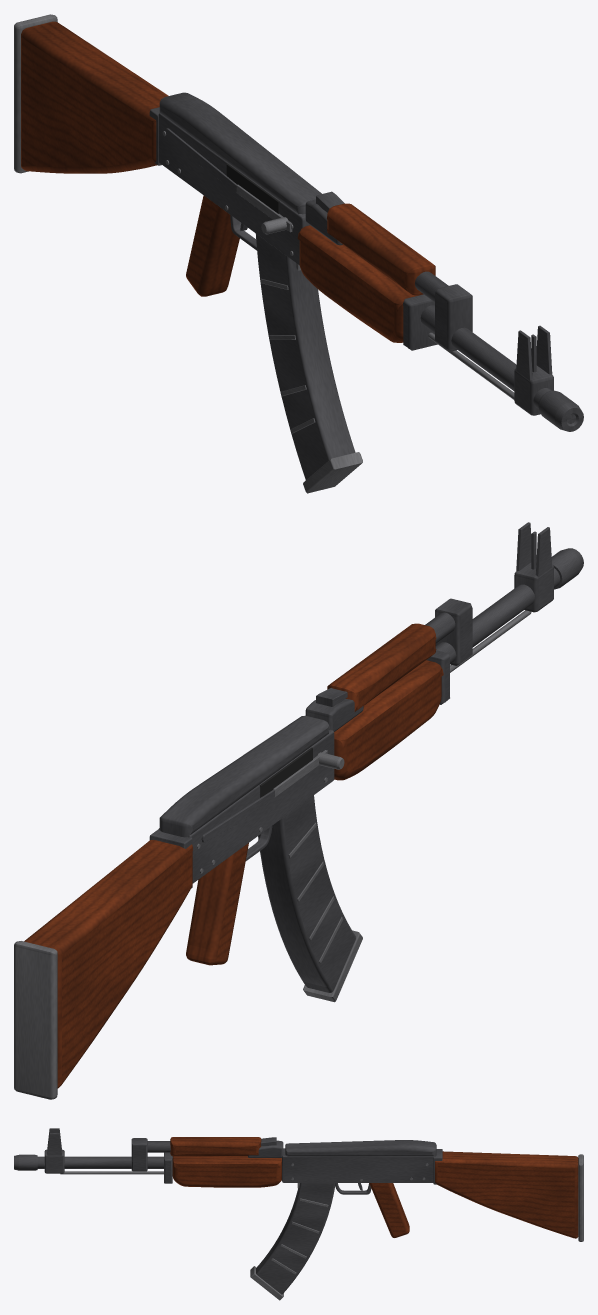
3 views of the same model, one above another, from view 1: azimuth 30°, elevation 25°; view 2: azimuth 150°, elevation 25°; view 3: azimuth 270°, elevation 25° (orthographic). The views are drawn at different scales.
Parts seen in each view (by area): view 1: model; view 2: model; view 3: model.
Part boxes in pixels (x1,y1,x2,y2): model: (14, 14, 583, 493); model: (14, 522, 583, 1099); model: (14, 1128, 583, 1300).
Bounding box in the file's own units: 0.0605 × 0.2933 × 0.912.
4 materials, 3 textured.
